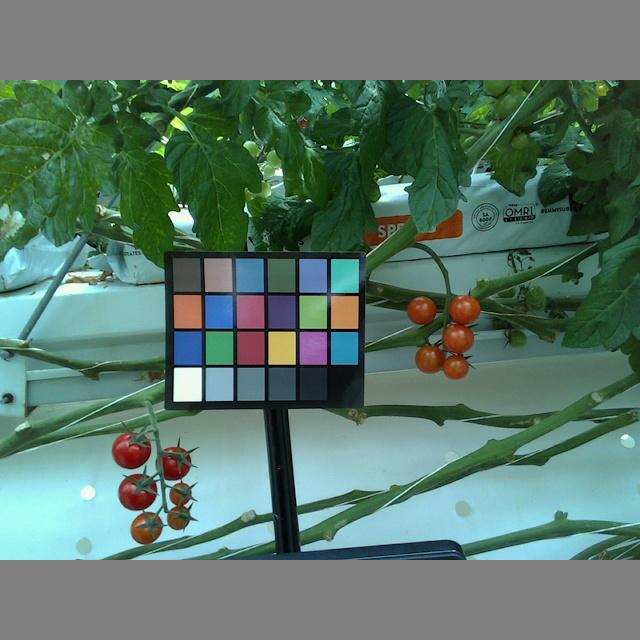pink: (129, 509, 164, 544), (446, 292, 481, 326), (441, 324, 475, 354), (414, 343, 446, 374), (407, 292, 437, 325), (439, 354, 469, 381), (165, 505, 190, 530), (170, 483, 191, 504)
red: (111, 433, 152, 470), (117, 475, 158, 511), (154, 447, 193, 479)
